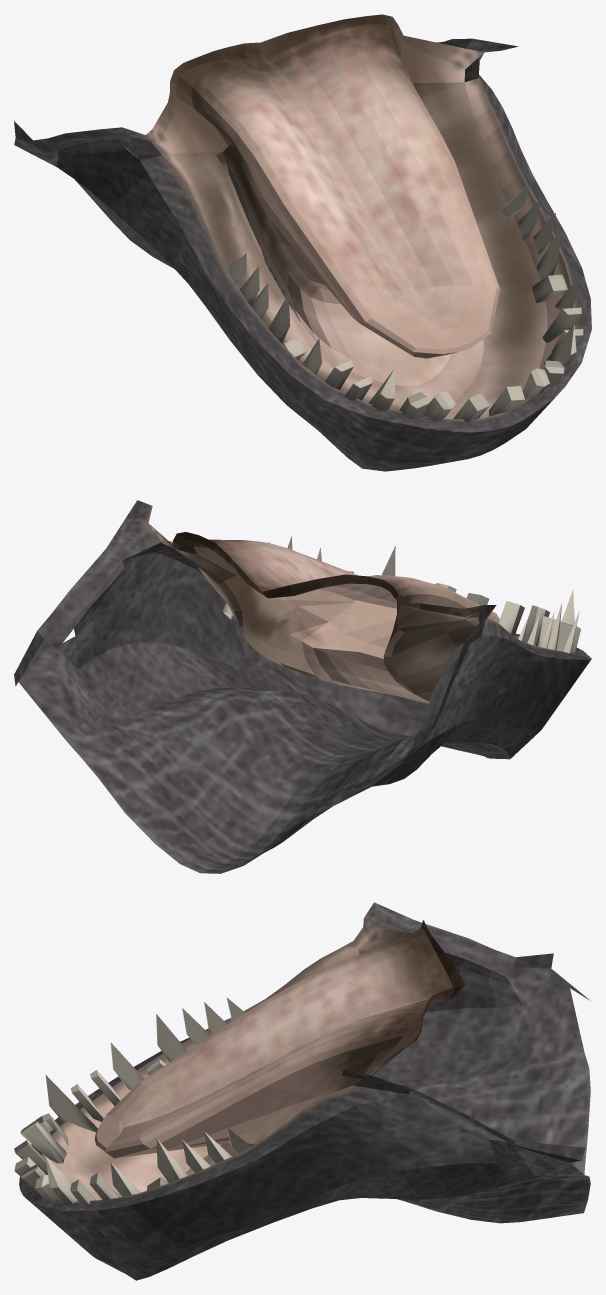
File: MandibulaBraquio.obj
3 views of the same model, one above another, from view 1: azimuth 30°, elevation 25°; view 2: azimuth 150°, elevation 25°; view 3: azimuth 270°, elevation 25° (orthographic). The views are drawn at different scales.
Visible parts, largest first — view 1: MandibulaBraquio:polySurface44; view 2: MandibulaBraquio:polySurface44; view 3: MandibulaBraquio:polySurface44.
Boxes of the visible parts, bbox=[...] form: MandibulaBraquio:polySurface44: bbox=[14, 14, 591, 471]; MandibulaBraquio:polySurface44: bbox=[14, 500, 591, 873]; MandibulaBraquio:polySurface44: bbox=[14, 902, 591, 1280].
Size of the model in its own units: 0.7497 by 0.5484 by 0.9971.
4 materials, 4 textured.
